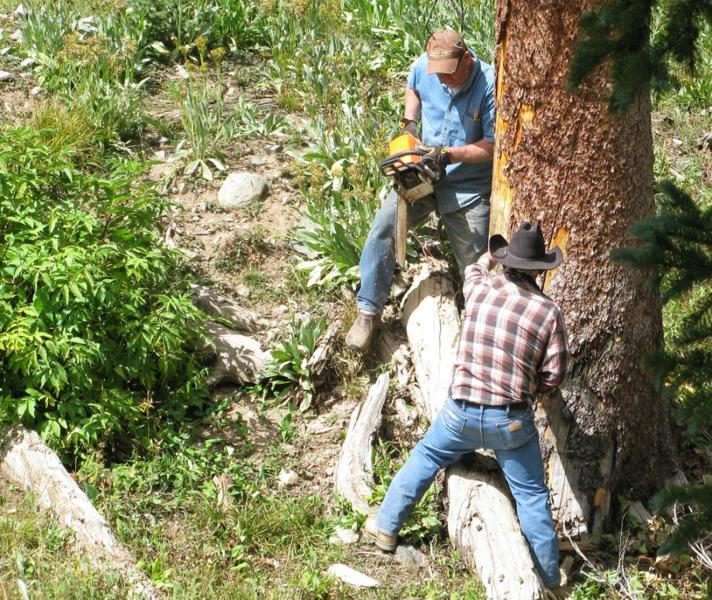person: (346, 29, 497, 354)
